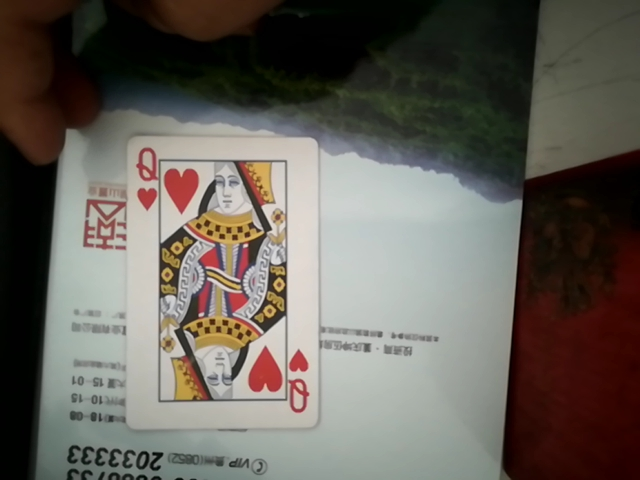hx q: (119, 132, 324, 439)
